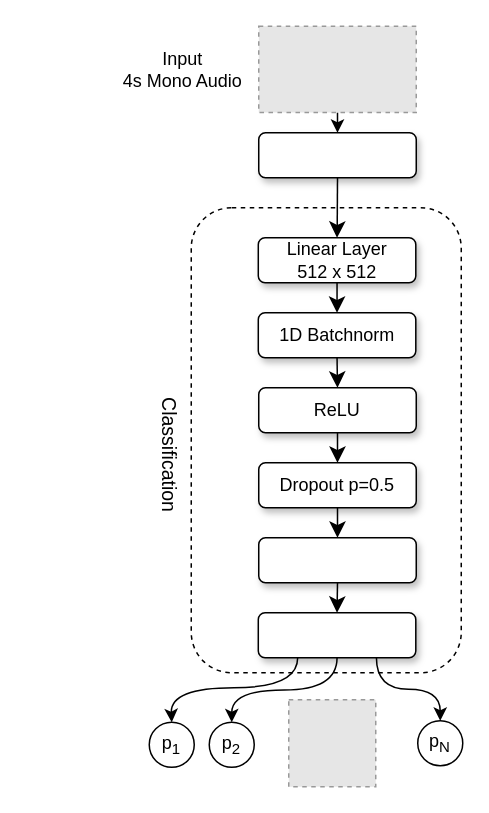
The diagram is 489 pixels wide and 813 high, and some of its shapes have lost their labels. Grey dashed boxes stand in for pictures. The centre of each missing label's shape, as x and y in pixels:
Backbone CNN: [338,156]
Linear Layer 512 x #Classes: [338,561]
Sigmoid: [338,636]
